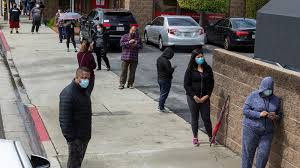Social Distance: (3, 3, 285, 158)
